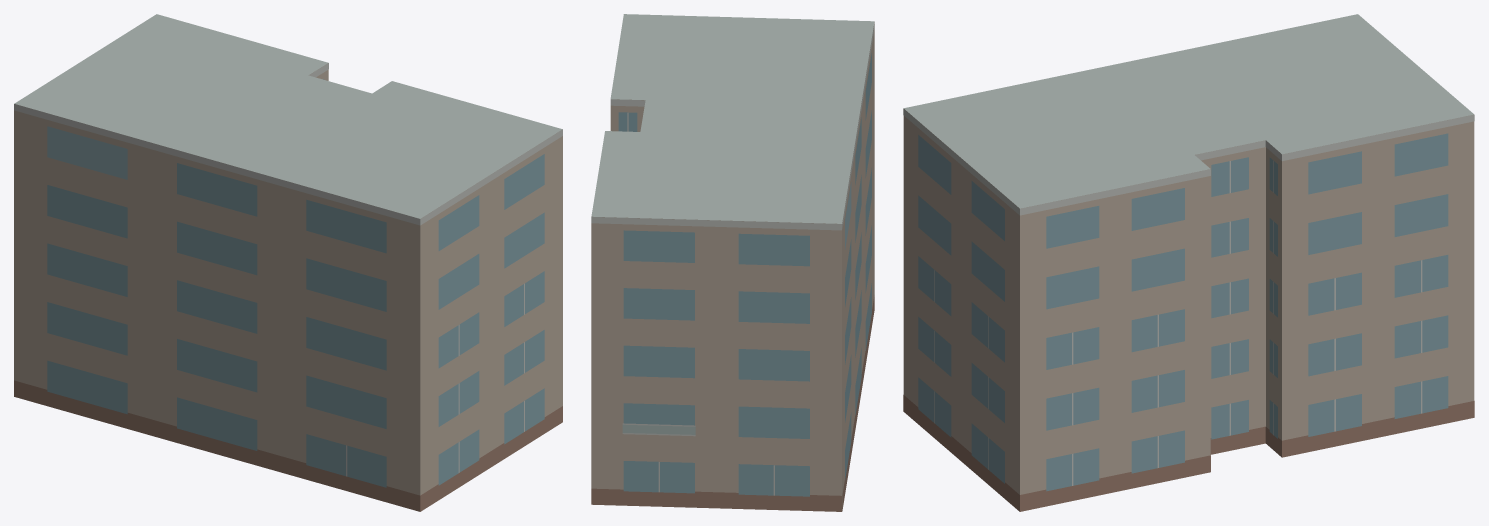
Rendered from survey-upis-32707119.glb.
3 renders of one model, left to right at view 1: azimuth 30°, elevation 25°; view 2: azimuth 150°, elevation 25°; view 3: azimuth 270°, elevation 25°, orthographic. The views are drawn at different scales.
Visible parts, largest first — view 1: survey-upis-32707119.tmp; view 2: survey-upis-32707119.tmp; view 3: survey-upis-32707119.tmp.
Part boxes in pixels (box(x1,y1,x2,y2)): survey-upis-32707119.tmp: box(14, 14, 562, 511); survey-upis-32707119.tmp: box(591, 14, 874, 511); survey-upis-32707119.tmp: box(903, 14, 1474, 511).
Bounding box in the file's own units: 14.81 × 10.75 × 18.36.
